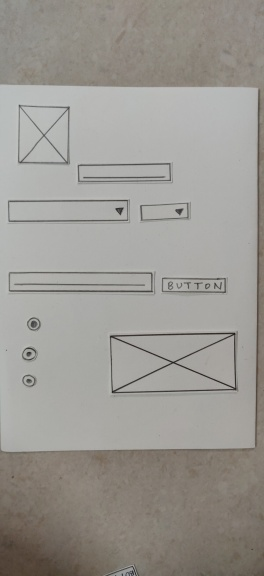button: (162, 279, 227, 294)
dropdown: (7, 198, 131, 220), (137, 201, 194, 221)
img: (106, 332, 240, 391), (18, 103, 72, 165)
radio: (24, 315, 43, 334), (20, 344, 38, 362), (21, 374, 35, 385)
text: (10, 273, 154, 293), (78, 162, 173, 185)
